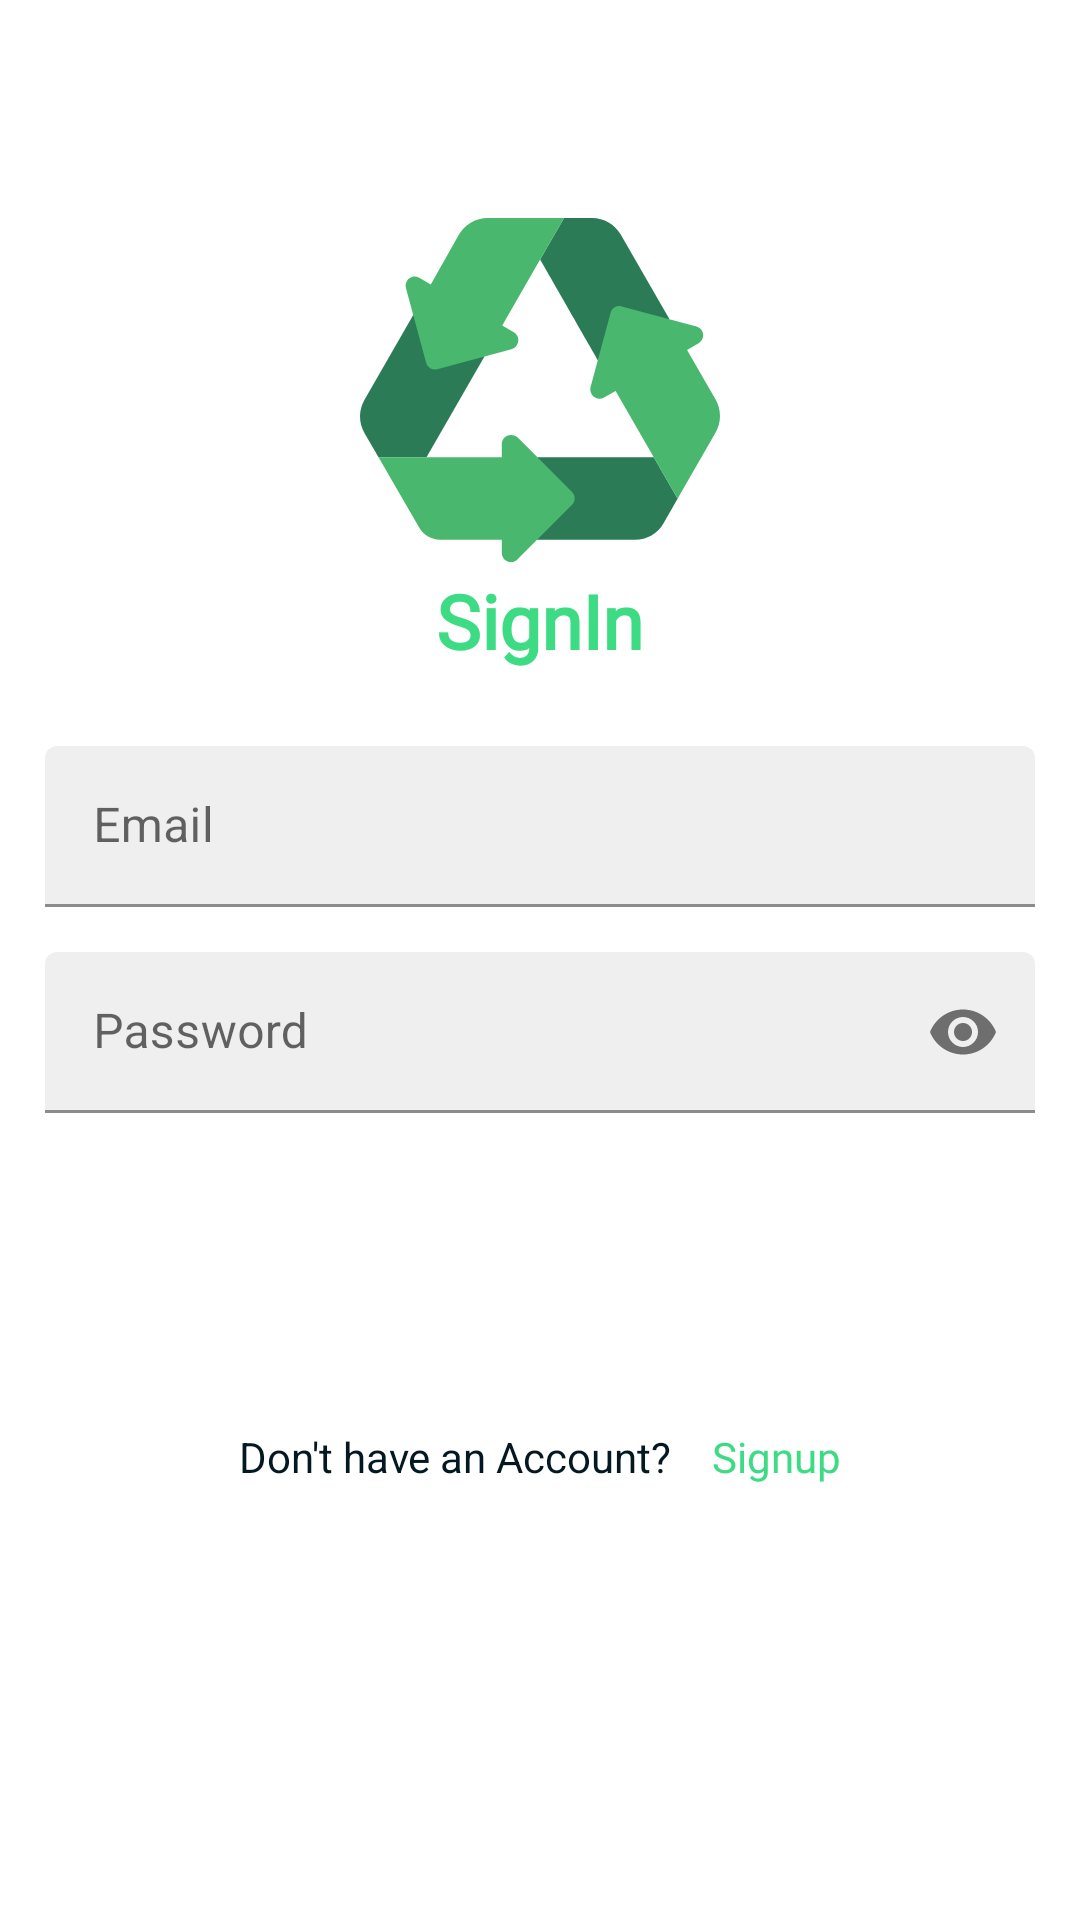

Where icons sit on this 1080 x 1920 app screen, as BBox(x1, y1, x2, y2):
recycling: BBox(360, 218, 720, 562)
